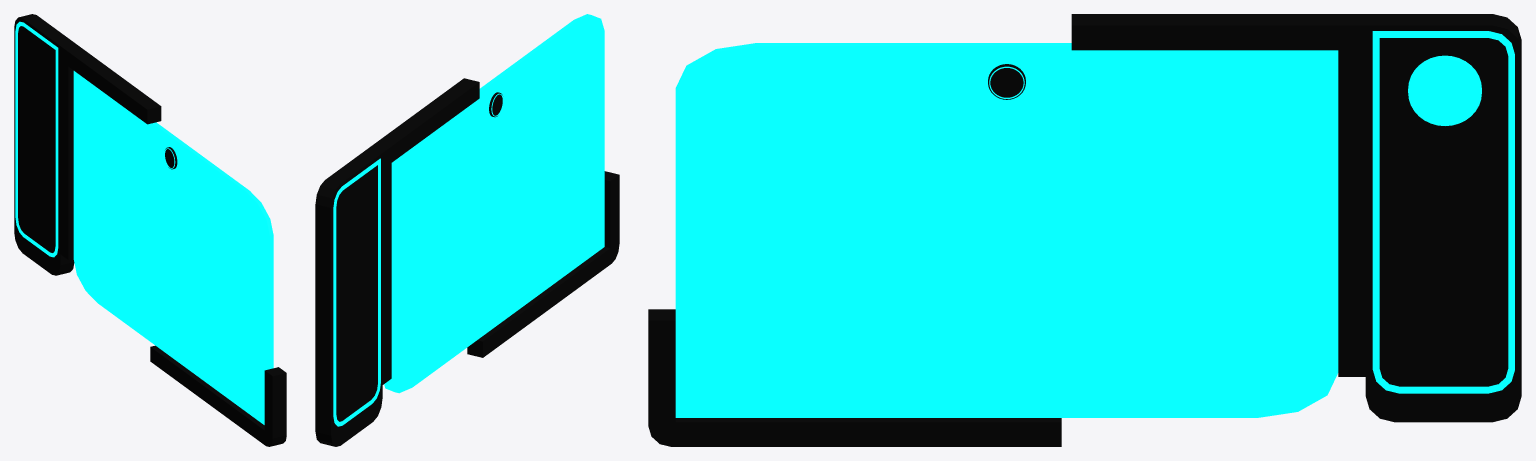
File: FutureCam1.fbx
3 views of the same model, side by side, from view 1: azimuth 30°, elevation 25°; view 2: azimuth 150°, elevation 25°; view 3: azimuth 270°, elevation 25° (orthographic). The views are drawn at different scales.
Parts seen in each view (by area): view 1: Cube, Cube.002, Cube.004, Cube.003; view 2: Cube, Cube.002, Cube.004, Cube.003; view 3: Cube, Cube.002, Cube.004, Cube.003, Cylinder.002, Cylinder.
Boxes of the visible parts, <box> form: Cube: <box>73,71,273,424</box>; Cube.002: <box>14,14,161,275</box>; Cube.004: <box>150,345,286,446</box>; Cube.003: <box>15,21,58,257</box>; Cube: <box>384,14,604,393</box>; Cube.002: <box>315,78,479,446</box>; Cube.004: <box>467,171,619,357</box>; Cube.003: <box>333,158,380,426</box>; Cube: <box>675,43,1338,417</box>; Cube.002: <box>1071,14,1521,422</box>; Cube.004: <box>648,309,1061,446</box>; Cube.003: <box>1372,31,1514,393</box>; Cylinder.002: <box>1408,55,1481,125</box>; Cylinder: <box>988,64,1025,99</box>.
Size of the model in its own units: 11.32 by 140 by 264.
